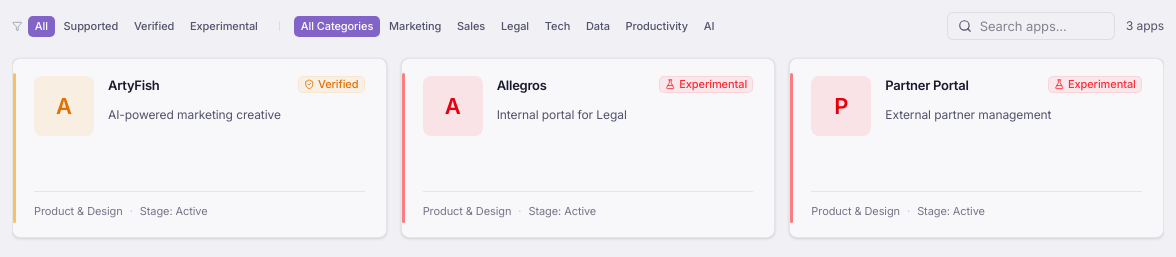
Test: AppBrowse › filters apps by category
Click the button "Marketing": click(415, 26) [382, 16, 448, 36]
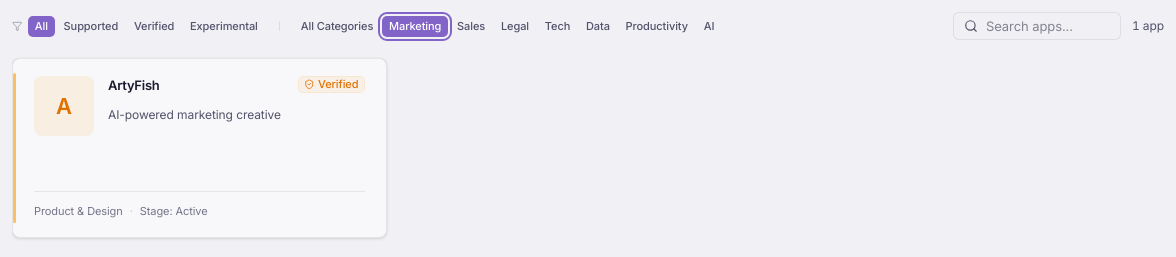
Check: the heading "ArtyFish" is shown, box [108, 76, 160, 94]
Check: the link "Allegros" is gone
